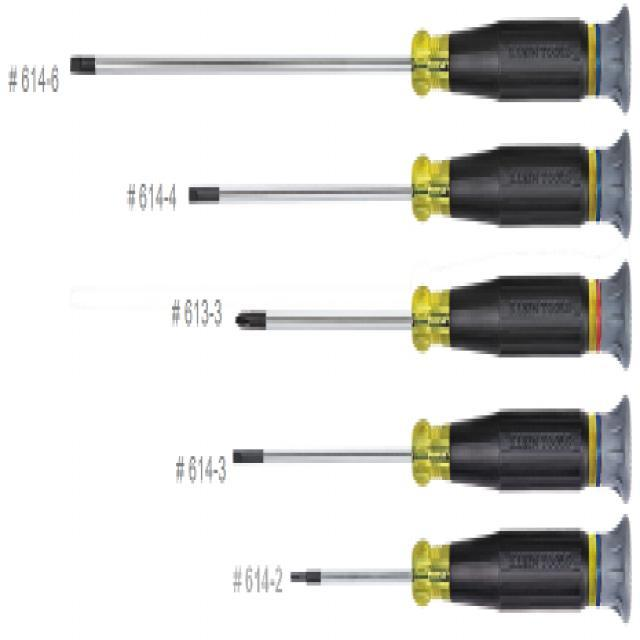screwdriver: (64, 5, 634, 114), (187, 128, 632, 244), (225, 392, 632, 507), (234, 262, 633, 371), (290, 511, 632, 624)
